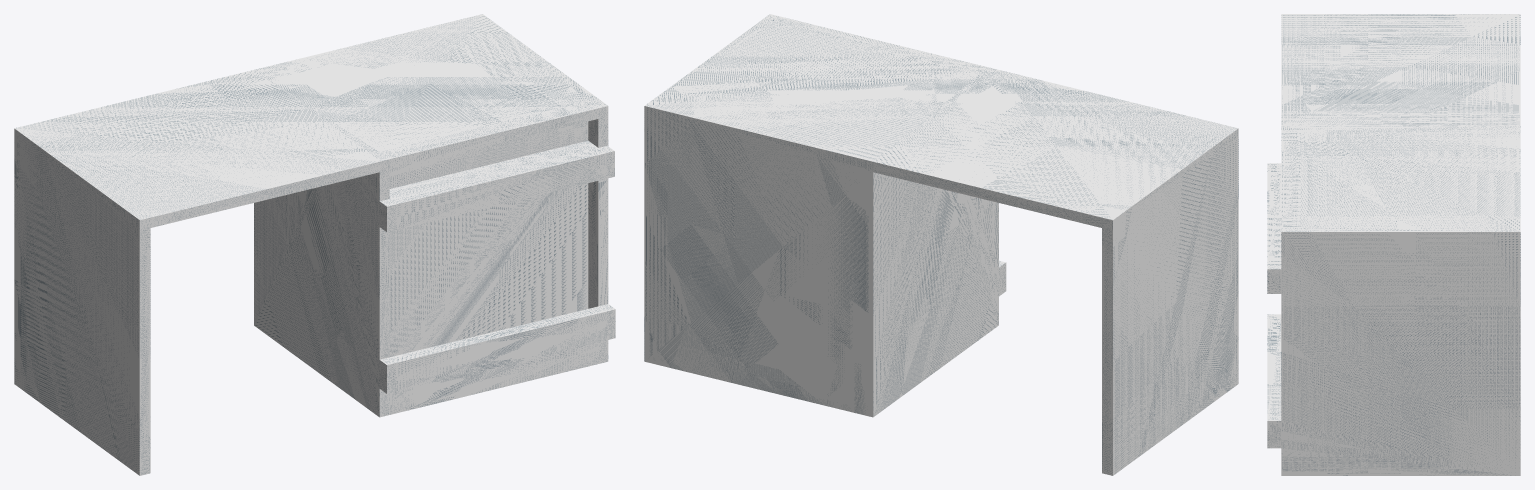
Rendered from mesa.fbx.
The picture shows the model from 3 angles, left to right: view 1: azimuth 30°, elevation 25°; view 2: azimuth 150°, elevation 25°; view 3: azimuth 270°, elevation 25°; orthographic projection. The views are drawn at different scales.
Parts seen in each view (by area): view 1: Model; view 2: Model; view 3: Model.
Part boxes in pixels (box(x1,y1,x2,y2)): Model: box(14, 14, 615, 475); Model: box(644, 14, 1238, 475); Model: box(1267, 14, 1520, 475).
Size of the model in its own units: 140 by 73 by 68.8.
